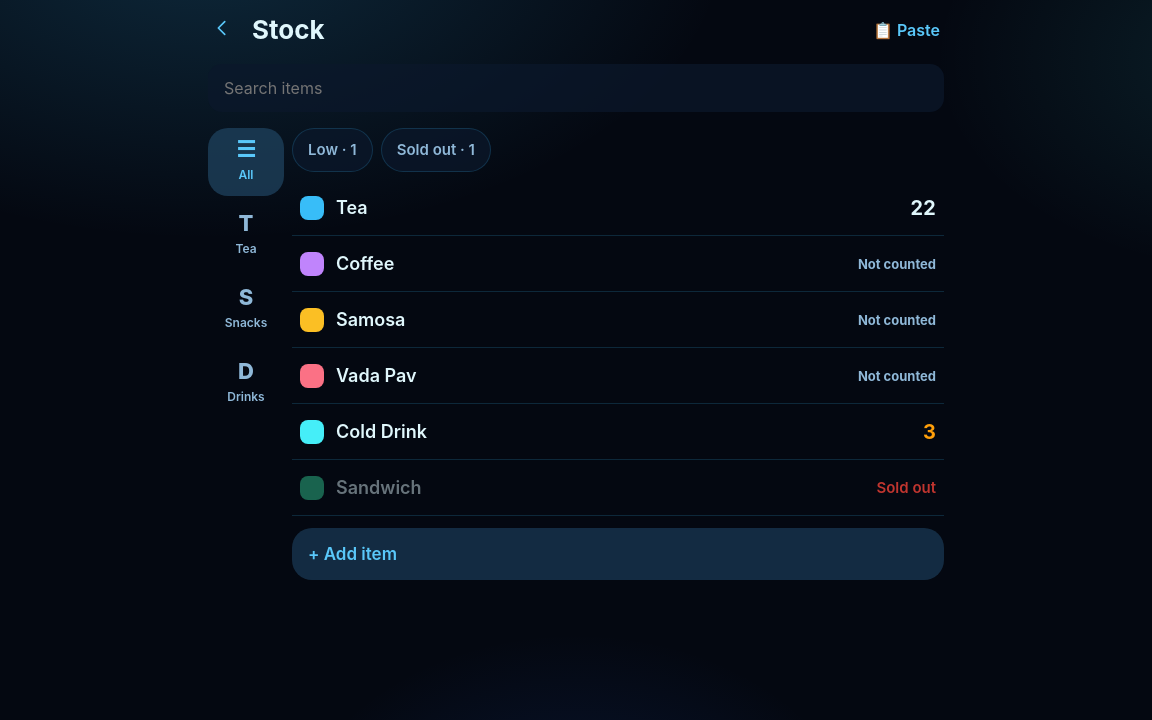
Settings Extras, Money tile, Stock rail (F-65, F-68) › Stock starts on All; Low and Sold out are chips
expect the text "Coffee" is shown: met, box 336,252 -> 394,274
Click the button "Sold out · 1" at (436, 150), box 381,128 -> 491,172
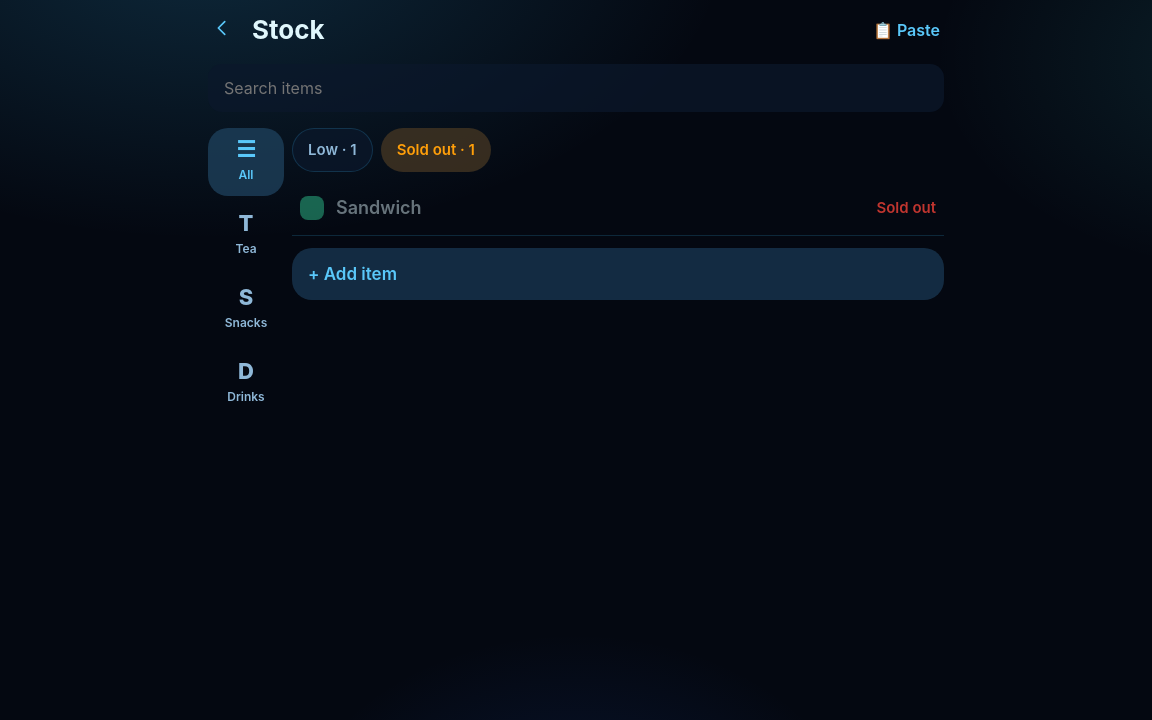
expect the text "Sandwich" is shown: met, box 336,196 -> 422,218
expect the button "Coffee" is gone: met
